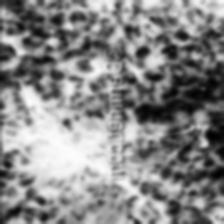Potentially Malignant Skin Tumors: (128, 0, 224, 224), (16, 11, 102, 204)
